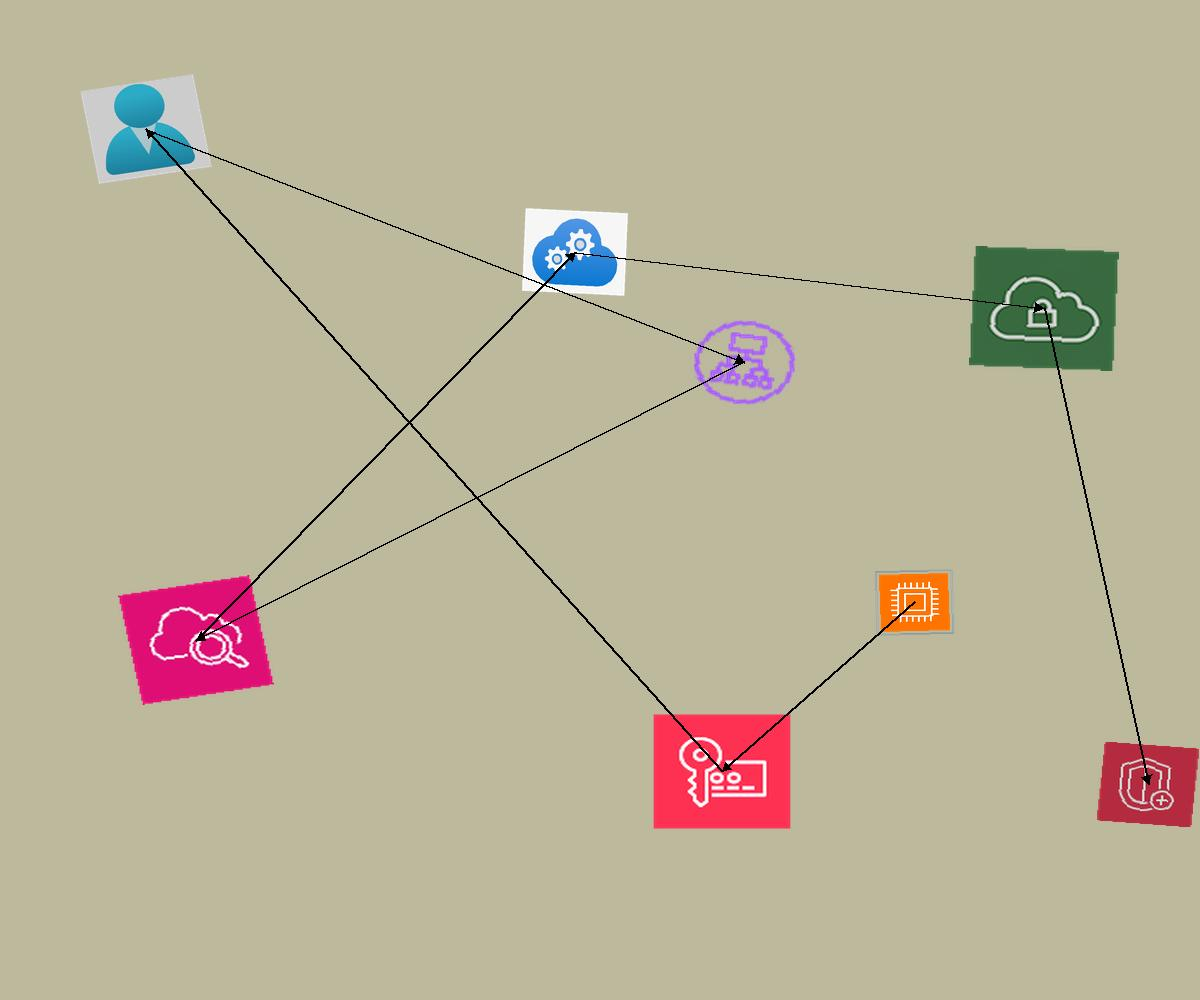AWS-Category_Compute: (874, 569, 955, 636)
AWS-CloudWatch: (118, 575, 274, 705)
AWS-Key-Management-Service: (652, 713, 792, 830)
AWS-Private_vpc: (969, 246, 1119, 371)
AWS-Res_Elastic-Load-Balancing_Application-Load-Balancer: (681, 310, 808, 415)
AWS-Shield: (1096, 741, 1200, 828)
Azure_cloud_services: (522, 208, 628, 296)
Azure_users: (80, 74, 212, 184)
